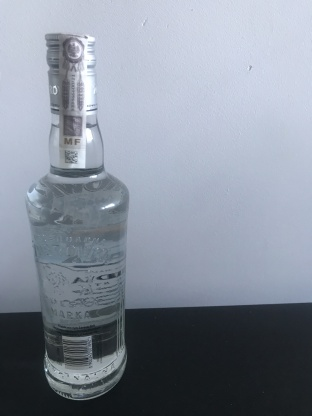nakretka: (42, 29, 100, 119)
